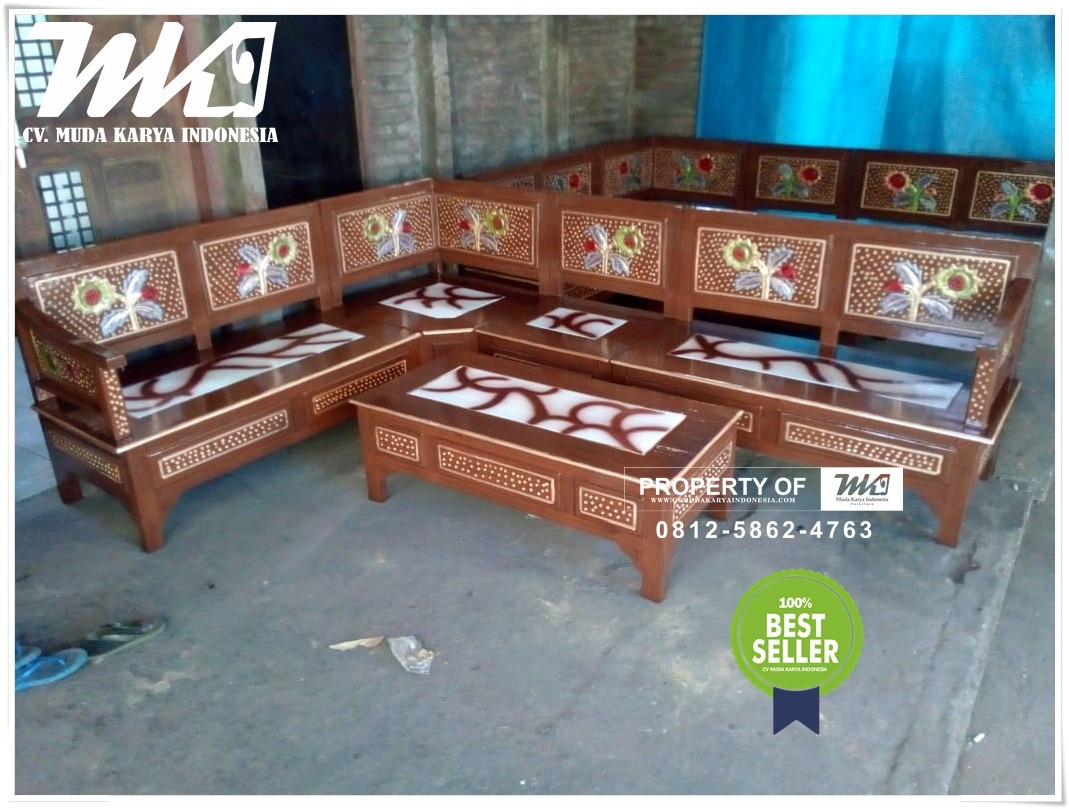meja: (364, 352, 744, 568)
sova: (14, 248, 1026, 559)
